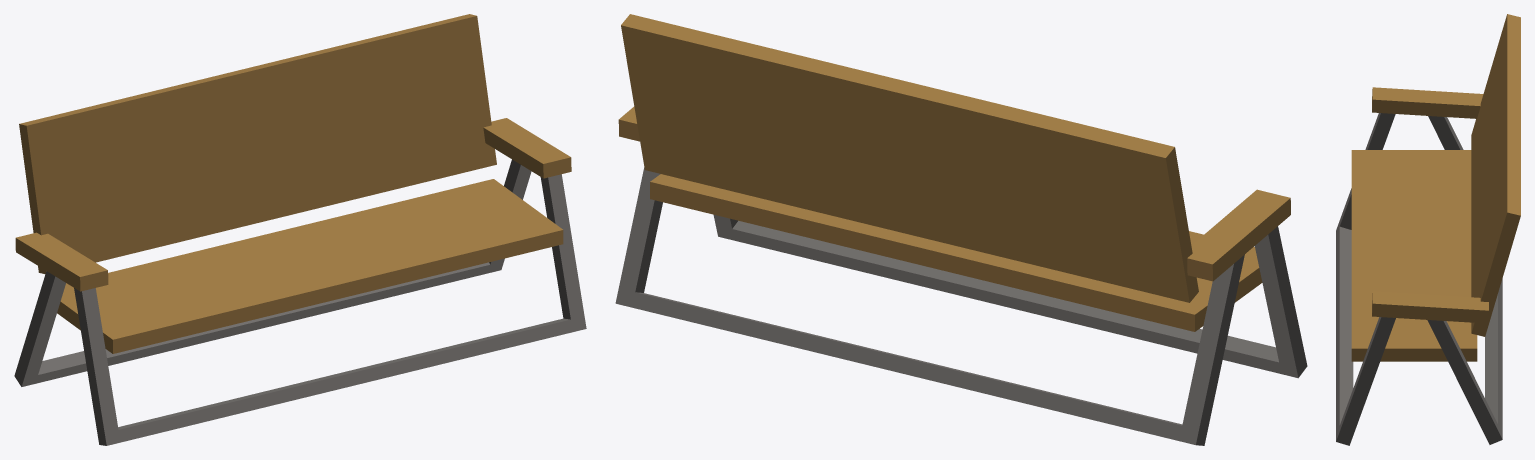
File: Bench.glb
3 renders of one model, left to right at view 1: azimuth 30°, elevation 25°; view 2: azimuth 150°, elevation 25°; view 3: azimuth 270°, elevation 25°, orthographic. The views are drawn at different scales.
Visible parts, largest first — view 1: SI_Prop_Bench_01; view 2: SI_Prop_Bench_01; view 3: SI_Prop_Bench_01.
Part boxes in pixels (x1,y1,x2,y2): SI_Prop_Bench_01: (14, 14, 586, 445); SI_Prop_Bench_01: (615, 14, 1307, 445); SI_Prop_Bench_01: (1336, 14, 1520, 445).
Size of the model in its own units: 0.036 by 0.0176 by 0.013.
Materials: 1 (1 with a texture image).
